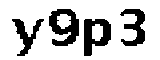3: (117, 9, 151, 48)
9: (46, 5, 81, 48)
p: (82, 16, 113, 60)
y: (9, 13, 45, 60)
